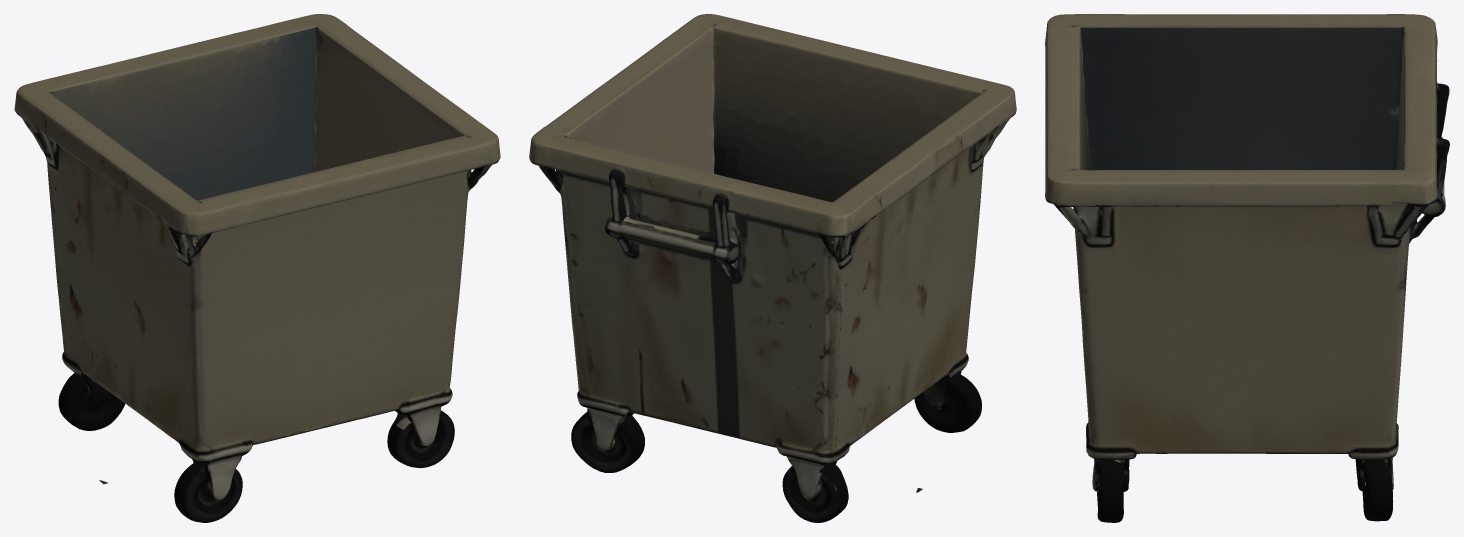
The model's file is street-dumpster.glb.
3 views of the same model, side by side, from view 1: azimuth 30°, elevation 25°; view 2: azimuth 150°, elevation 25°; view 3: azimuth 270°, elevation 25° (orthographic). The views are drawn at different scales.
Visible parts, largest first — view 1: tmpfwb1fat9.ply; view 2: tmpfwb1fat9.ply; view 3: tmpfwb1fat9.ply.
Part boxes in pixels (x1,y1,x2,y2): tmpfwb1fat9.ply: (14,14,500,522); tmpfwb1fat9.ply: (529,14,1016,522); tmpfwb1fat9.ply: (1045,14,1449,522).
Bounding box in the file's own units: 1 × 1 × 1.
1 material, 1 textured.
